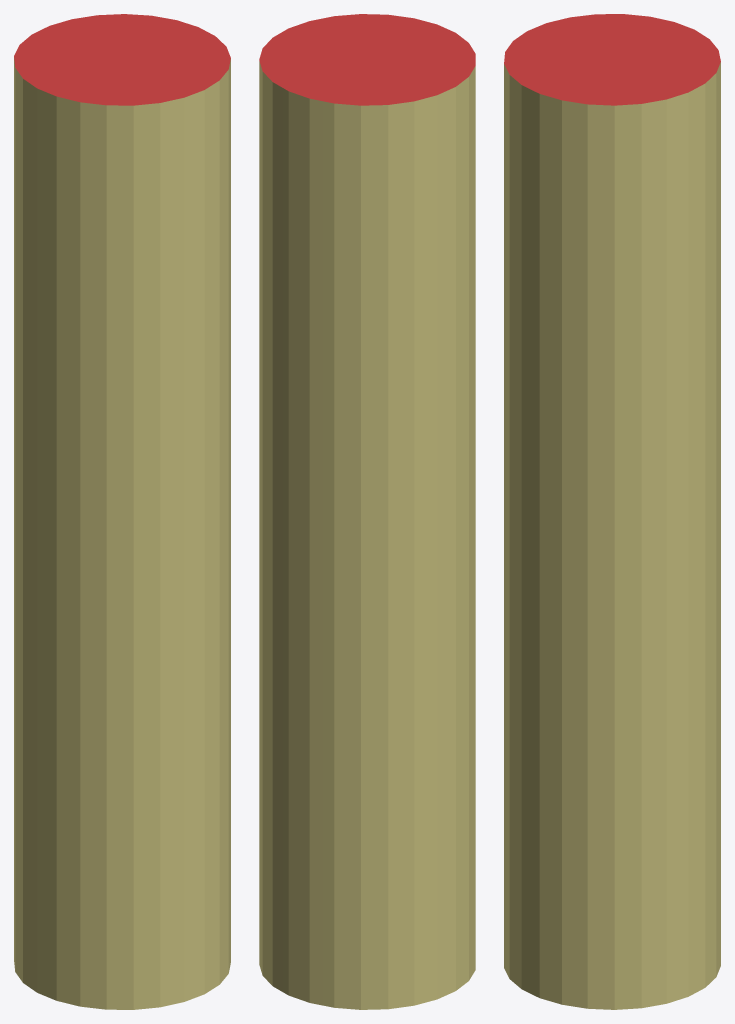
3 renders of one model, left to right at view 1: azimuth 30°, elevation 25°; view 2: azimuth 150°, elevation 25°; view 3: azimuth 270°, elevation 25°, orthographic.
Size of the model in its own units: 3.36 by 3.36 by 15.45.
